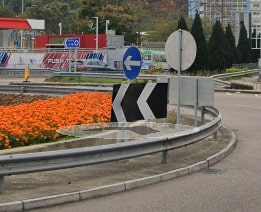Turn Left: (121, 45, 143, 80)
Turn Left(quick): (111, 85, 167, 119)
